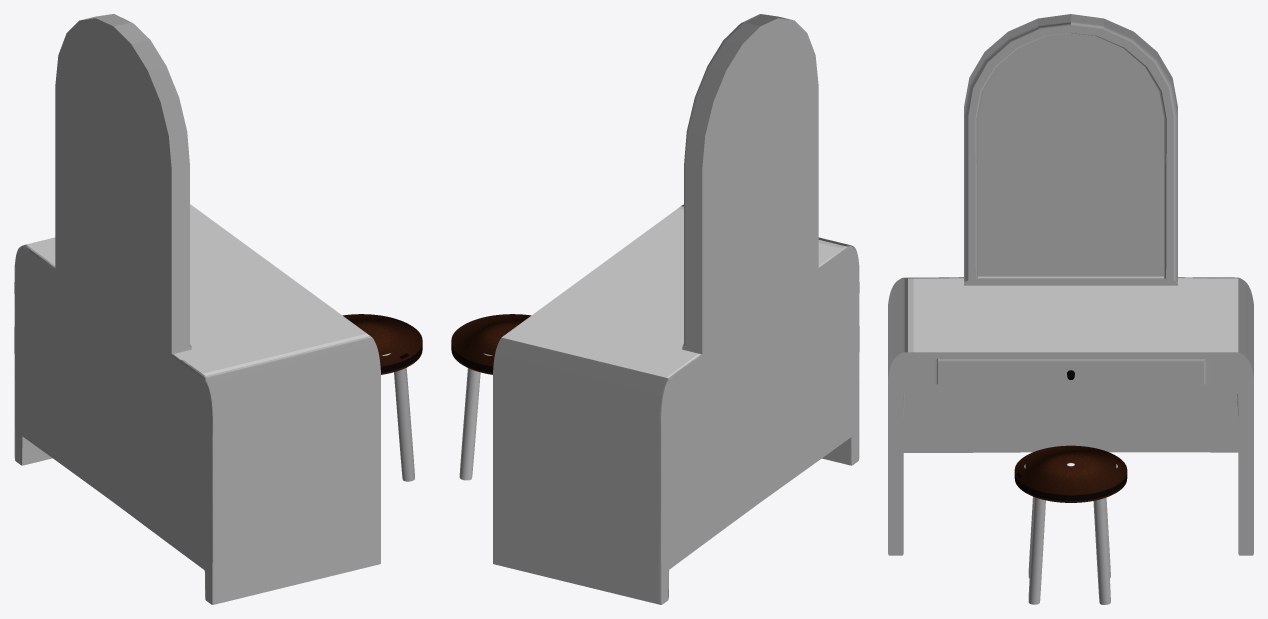
File: meja rias.obj
3 renders of one model, left to right at view 1: azimuth 30°, elevation 25°; view 2: azimuth 150°, elevation 25°; view 3: azimuth 270°, elevation 25°, orthographic. The views are drawn at different scales.
Visible parts, largest first — view 1: Meja, Cermin, Kursi, Kaki kursi; view 2: Meja, Cermin, Kursi, Kaki kursi; view 3: Meja, Cermin, Kursi, Kaki kursi.
Part boxes in pixels (bbox=[...]): Meja: bbox=[14, 204, 380, 604]; Cermin: bbox=[55, 14, 191, 354]; Kursi: bbox=[342, 314, 422, 374]; Kaki kursi: bbox=[394, 368, 414, 481]; Meja: bbox=[493, 204, 859, 604]; Cermin: bbox=[682, 14, 818, 354]; Kursi: bbox=[451, 314, 531, 374]; Kaki kursi: bbox=[459, 368, 480, 480]; Meja: bbox=[888, 277, 1253, 555]; Cermin: bbox=[964, 14, 1177, 285]; Kursi: bbox=[1014, 445, 1127, 502]; Kaki kursi: bbox=[1028, 496, 1110, 604].
Size of the model in its own units: 10.23 by 16.46 by 11.71.
5 materials, 1 textured.
